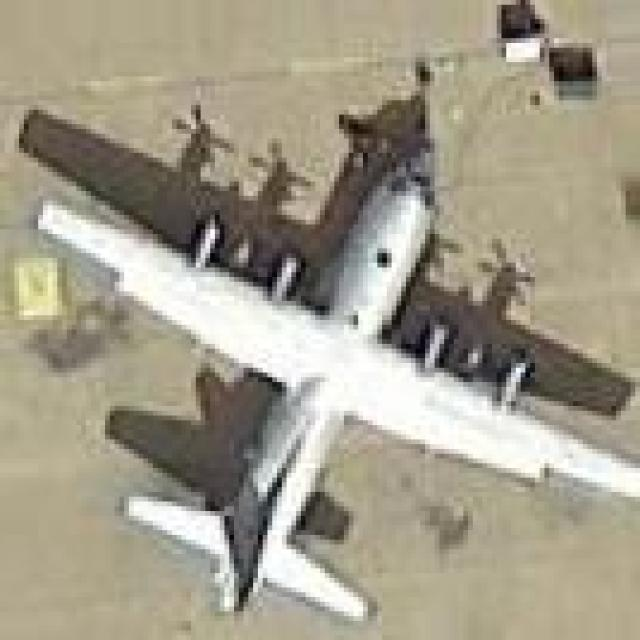C-130_TopDown: (4, 53, 639, 636)
